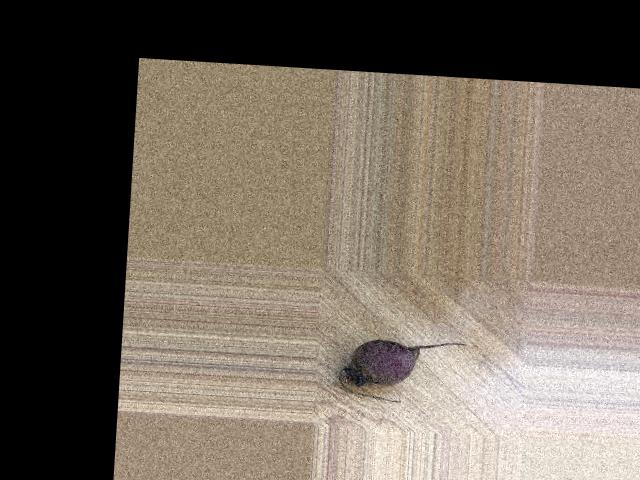beet: (338, 335, 468, 406)
